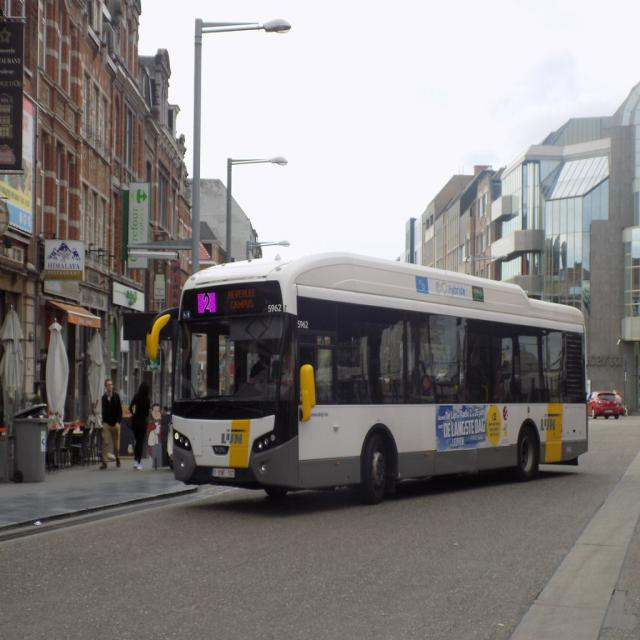bus-number: (199, 290, 215, 316)
